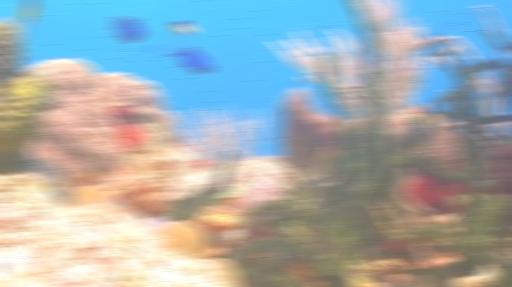Fish: (164, 32, 213, 74), (109, 16, 144, 43), (18, 0, 37, 35), (169, 20, 196, 35), (146, 44, 161, 53), (300, 76, 315, 83)
